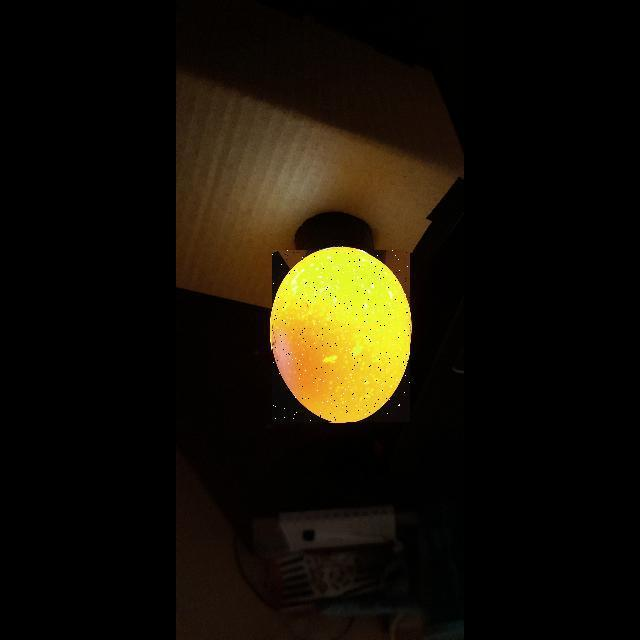A - Good: (271, 248, 414, 423)
